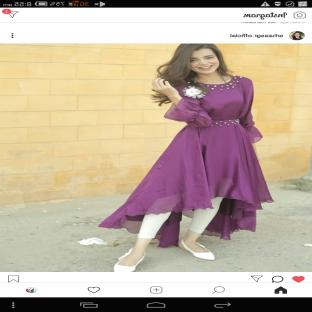Human: (99, 44, 274, 272)
